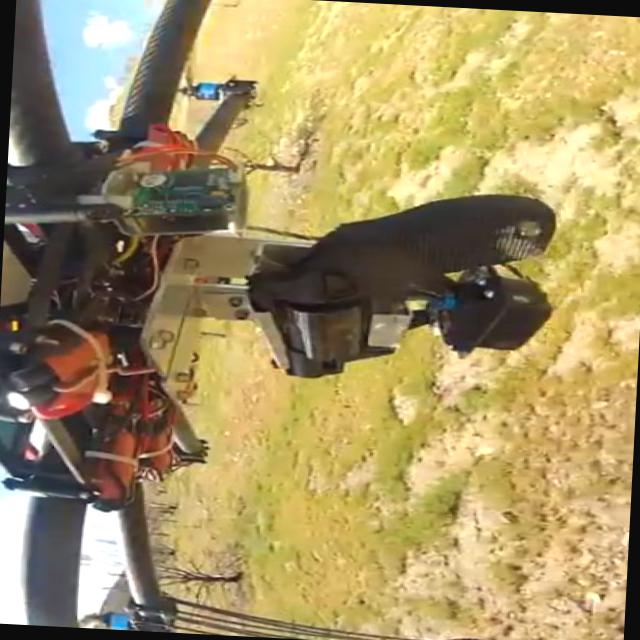handgun: (266, 180, 568, 388)
